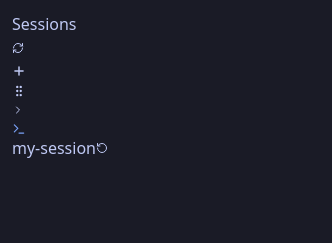
it: TmuxTree › expand/collapse toggles window visibility
The width and height of the screenshot is (332, 243).
Expected: the text "0: main" is not shown
// Click expand button
Step 1. Click the button named "Expand session" → [18, 110], box left=12, top=104, right=24, bottom=116
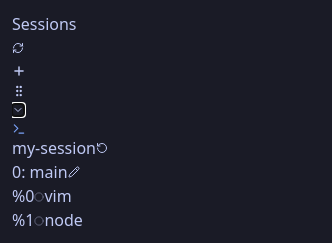
Now the text "0: main" is shown, box left=12, top=161, right=68, bottom=183
// Collapse again
Step 2. Click the button named "Collapse session" → [18, 110], box left=12, top=104, right=24, bottom=116
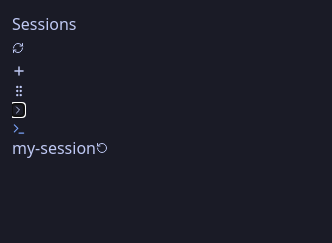
Now the text "0: main" is gone
